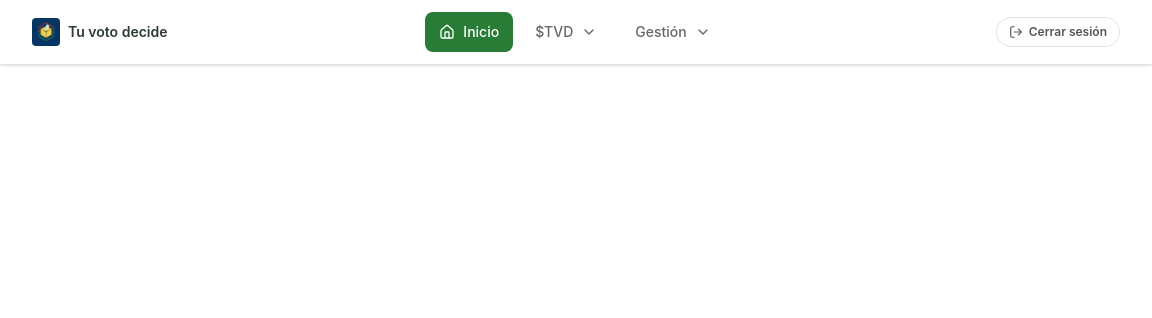
MX-16 | acceso y shell Superadmin › [MX-16][ADM-UX-P2-001][INTEGRACION] actualiza aria-expanded al operar los dropdowns
Click the button "$TVD" at (567, 32), box [521,12,613,52]
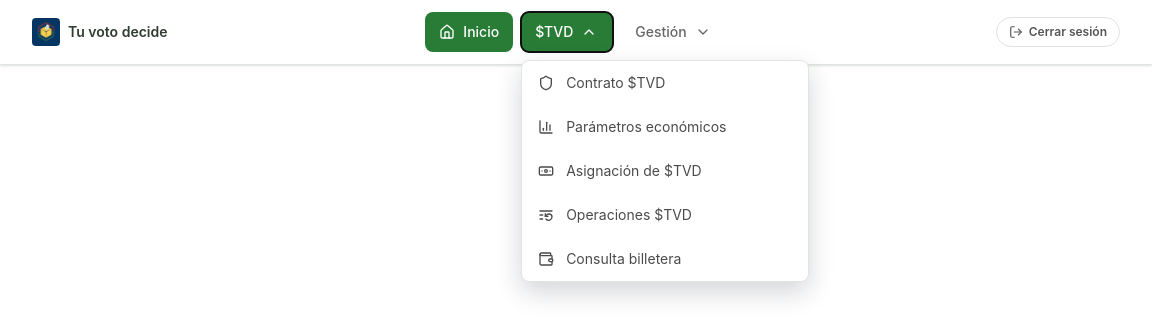
Expected: the button "$TVD" is expanded, [521,12,613,52]
